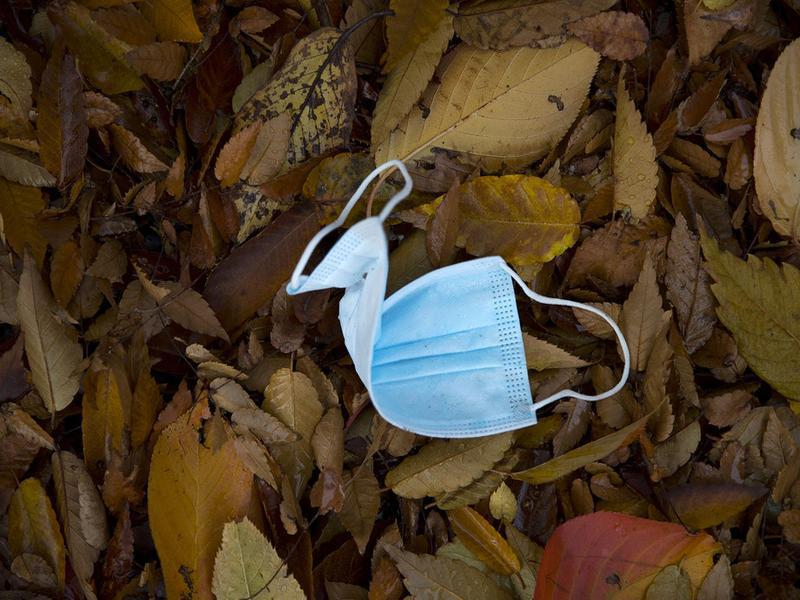leaf: (363, 35, 602, 169), (140, 385, 270, 587), (412, 176, 594, 266), (700, 240, 800, 400), (16, 240, 91, 424), (201, 513, 316, 600), (373, 433, 518, 502), (30, 33, 89, 194), (610, 60, 661, 229), (379, 534, 508, 600), (4, 465, 69, 589), (611, 249, 670, 374), (139, 276, 237, 346)
mask: (284, 157, 635, 441)
